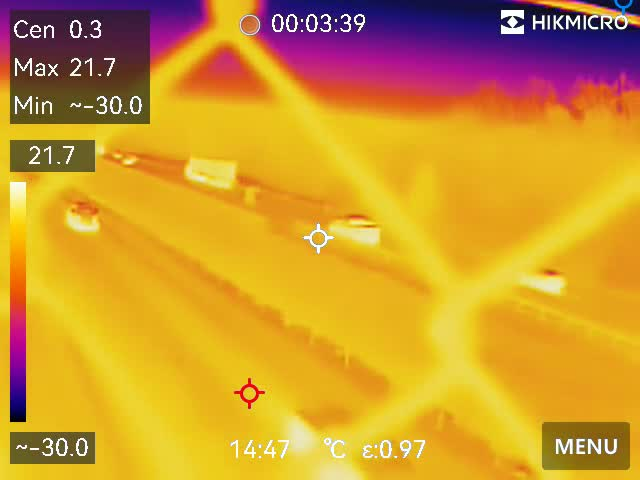heavyTruck: (185, 152, 243, 181)
